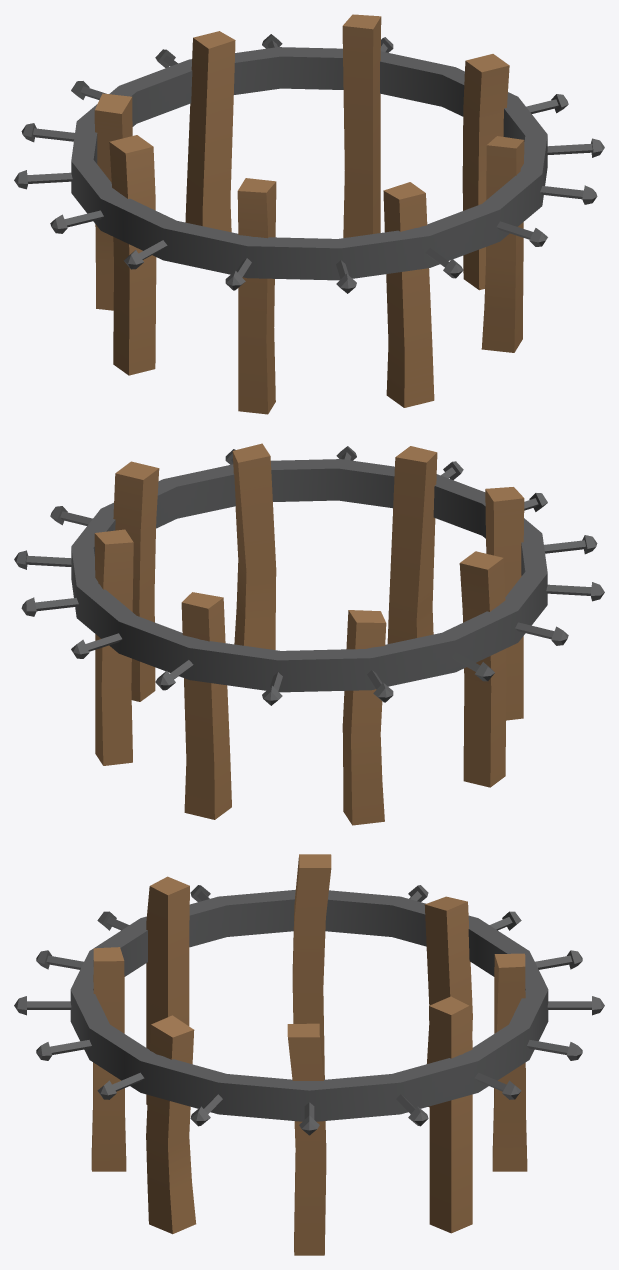
File: WeaponRack_F.fbx
The picture shows the model from 3 angles, top to bottom: view 1: azimuth 30°, elevation 25°; view 2: azimuth 150°, elevation 25°; view 3: azimuth 270°, elevation 25°; orthographic projection.
Visible parts, largest first — view 1: WeaponRack_F; view 2: WeaponRack_F; view 3: WeaponRack_F.
Part boxes in pixels (x1,y1,x2,y2): WeaponRack_F: (14,14,604,414); WeaponRack_F: (14,443,604,825); WeaponRack_F: (14,854,604,1255).
Size of the model in its own units: 188 by 76.75 by 188.
